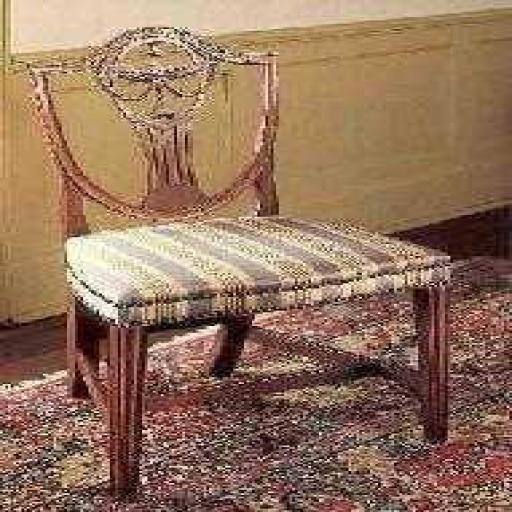chair: (24, 22, 459, 502)
